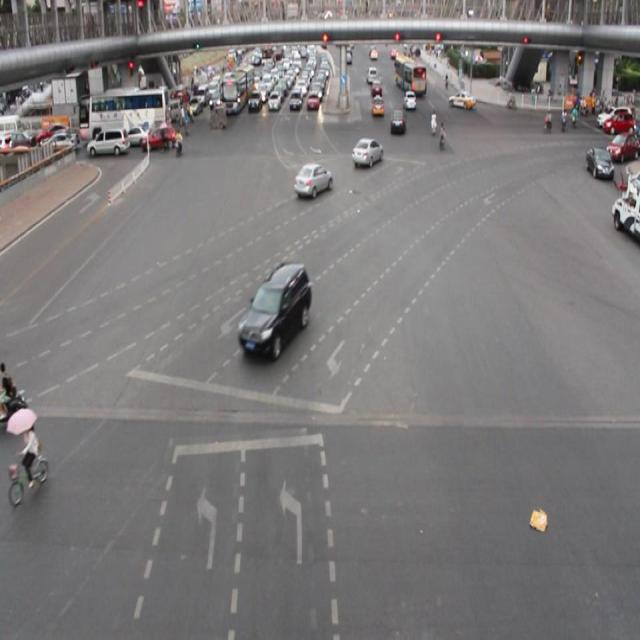car: (235, 261, 313, 360), (292, 161, 333, 200), (350, 136, 383, 169)
